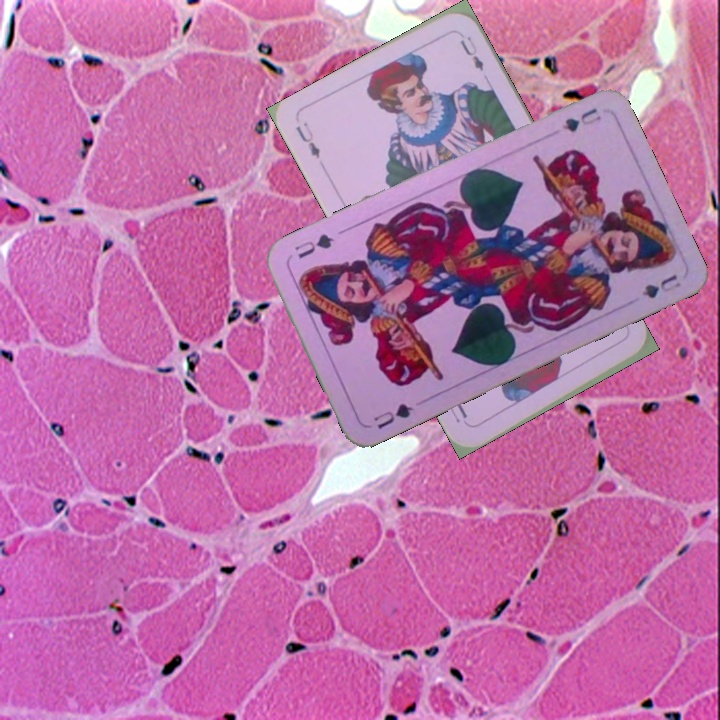EU: (291, 118, 323, 161)
GU: (369, 399, 417, 432), (558, 103, 604, 135)
